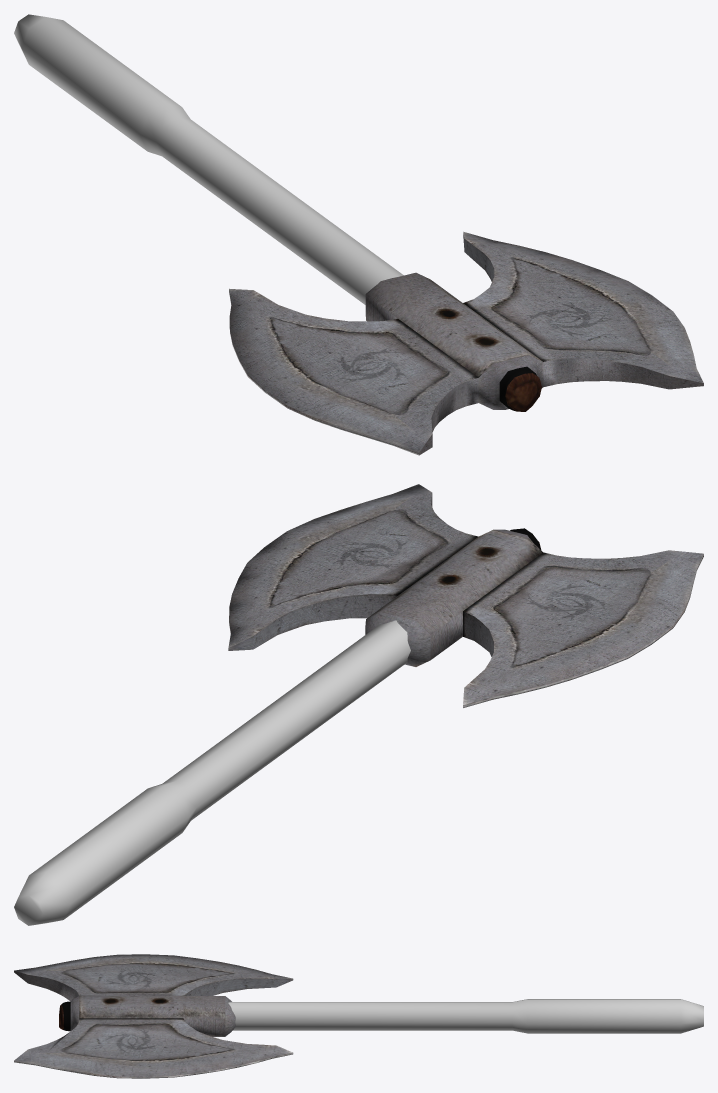
File: 2h_axe.fbx
3 renders of one model, top to bottom at view 1: azimuth 30°, elevation 25°; view 2: azimuth 150°, elevation 25°; view 3: azimuth 270°, elevation 25°, orthographic. The views are drawn at different scales.
Visible parts, largest first — view 1: object; view 2: object; view 3: object.
Part boxes in pixels (x1,y1,x2,y2): object: [14, 14, 703, 455]; object: [14, 484, 703, 925]; object: [14, 954, 703, 1078].
Bounding box in the file's own units: 103 × 13.01 × 246.
